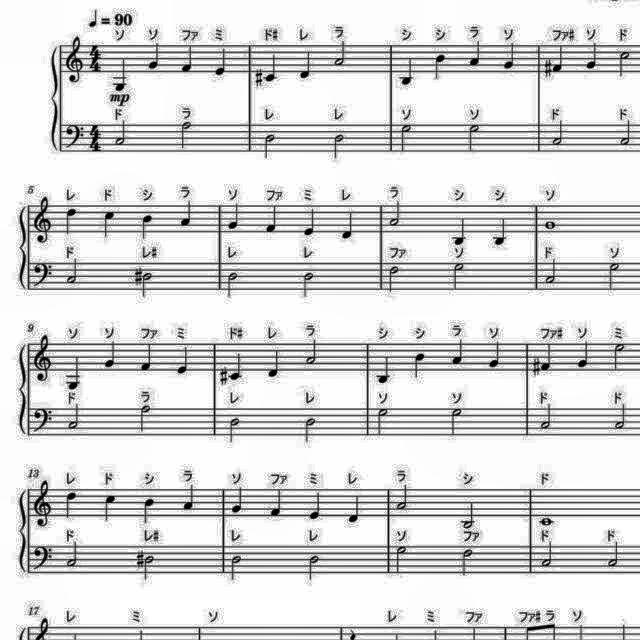Bass-clef: (31, 258, 53, 290), (33, 404, 56, 434), (64, 120, 86, 150), (34, 544, 54, 572)
Diez: (218, 364, 230, 388), (252, 68, 264, 90), (132, 267, 144, 289), (134, 547, 146, 569), (542, 58, 554, 78), (531, 356, 541, 380)
Full-note: (538, 516, 556, 530), (543, 219, 557, 231)
Half-note: (394, 121, 414, 157), (546, 120, 570, 150), (460, 496, 478, 532), (62, 256, 82, 288), (382, 263, 402, 295), (445, 405, 463, 439), (176, 120, 196, 150), (464, 122, 482, 154), (374, 406, 392, 438), (305, 553, 323, 585), (224, 415, 243, 445), (539, 401, 557, 432), (606, 260, 622, 294), (301, 417, 319, 447), (611, 403, 629, 433), (393, 484, 411, 514), (459, 547, 477, 577), (65, 540, 81, 572), (230, 554, 246, 586), (388, 198, 404, 230), (329, 38, 346, 68), (329, 133, 346, 163), (111, 118, 129, 146), (541, 258, 559, 286), (65, 402, 83, 430), (393, 542, 407, 578), (610, 341, 626, 372), (224, 269, 240, 299), (138, 402, 154, 432), (606, 540, 622, 570), (617, 48, 633, 78), (619, 118, 633, 150), (300, 270, 316, 298), (453, 261, 467, 293), (540, 542, 556, 570), (304, 339, 320, 365), (264, 132, 278, 160), (141, 553, 155, 581), (140, 270, 152, 298)
Quarter-note: (172, 342, 198, 378), (64, 352, 85, 392), (110, 57, 130, 91), (398, 53, 418, 87), (451, 215, 471, 249), (263, 202, 281, 238), (538, 340, 556, 376), (490, 216, 510, 248), (582, 42, 602, 72), (485, 340, 505, 370), (145, 40, 163, 72), (298, 46, 314, 82), (501, 40, 519, 72), (551, 42, 569, 74), (227, 351, 245, 383), (467, 39, 485, 70), (340, 208, 356, 242), (179, 43, 197, 73), (101, 209, 119, 239), (301, 206, 319, 236), (574, 340, 592, 370), (177, 200, 196, 228), (62, 206, 78, 238), (226, 202, 242, 234), (140, 341, 156, 373), (377, 354, 393, 386), (450, 337, 466, 369), (62, 490, 78, 522), (346, 494, 362, 526), (214, 46, 228, 82), (139, 212, 157, 240), (181, 481, 197, 512), (269, 488, 285, 518), (432, 51, 448, 80), (264, 52, 278, 84), (104, 338, 118, 370), (142, 497, 158, 525), (230, 484, 244, 516), (267, 348, 281, 378), (310, 491, 322, 522), (412, 351, 424, 381), (104, 493, 116, 522)
Treble-clef: (29, 478, 55, 530), (64, 31, 88, 85), (31, 195, 54, 245), (34, 332, 54, 382)
